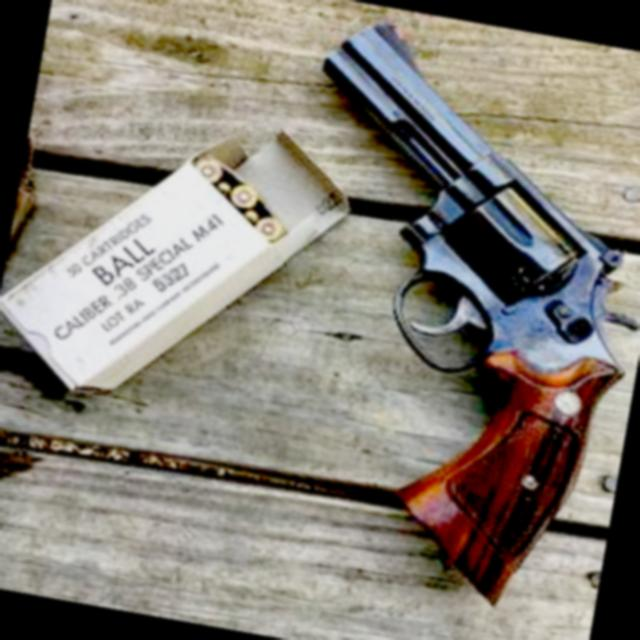revolver: (209, 0, 640, 640)
